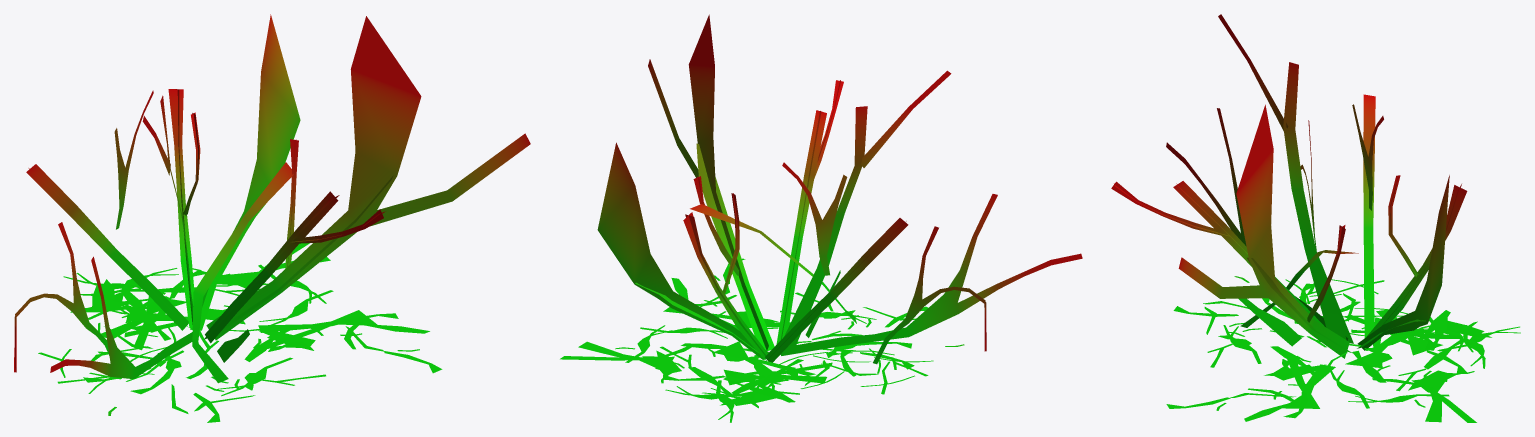
The model's file is Dead Shrubs_LOD1_Var12_vdknbbuha.fbx.
The picture shows the model from 3 angles, left to right: view 1: azimuth 30°, elevation 25°; view 2: azimuth 150°, elevation 25°; view 3: azimuth 270°, elevation 25°; orthographic projection. The views are drawn at different scales.
Visible parts, largest first — view 1: _blnf_Var12_LOD1; view 2: _blnf_Var12_LOD1; view 3: _blnf_Var12_LOD1.
Part boxes in pixels (x1,y1,x2,y2): _blnf_Var12_LOD1: (14, 14, 530, 422); _blnf_Var12_LOD1: (560, 14, 1082, 422); _blnf_Var12_LOD1: (1111, 14, 1520, 422).
Size of the model in its own units: 64.32 by 41.68 by 51.12.
